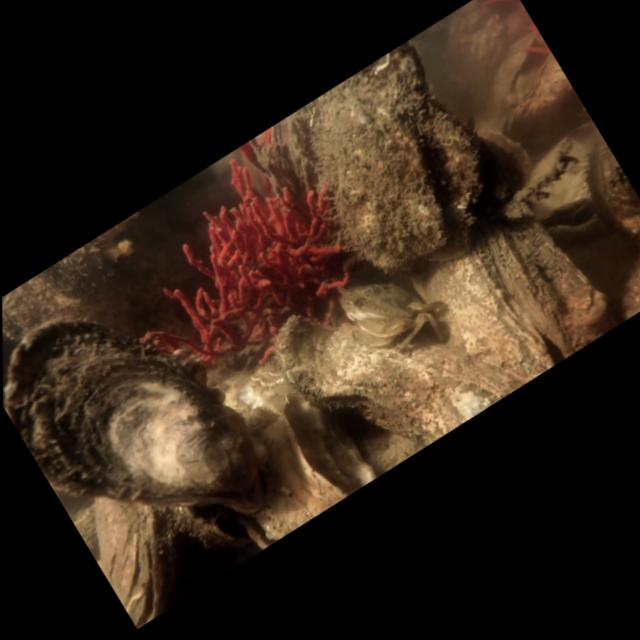Oyster-Indeterminate: (3, 310, 269, 517)
Oyster-Open: (283, 40, 488, 276), (269, 300, 506, 444), (91, 496, 171, 627), (238, 486, 314, 551)
